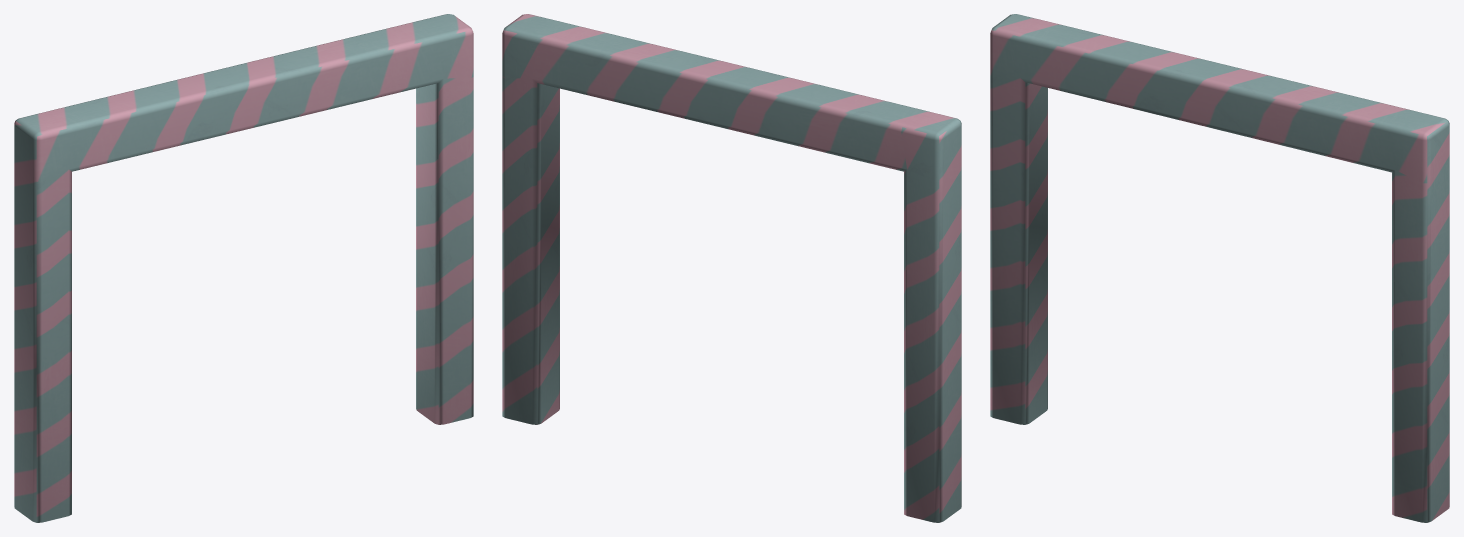
Rendered from Archway.fbx.
3 renders of one model, left to right at view 1: azimuth 30°, elevation 25°; view 2: azimuth 150°, elevation 25°; view 3: azimuth 330°, elevation 25°, orthographic.
Parts seen in each view (by area): view 1: ServingArchway; view 2: ServingArchway; view 3: ServingArchway.
Boxes of the visible parts, x1,y1,x2,y2 form: ServingArchway: (14,14,473,522); ServingArchway: (502,14,961,522); ServingArchway: (990,14,1449,522).
Bounding box in the file's own units: 164 × 138 × 15.88.
